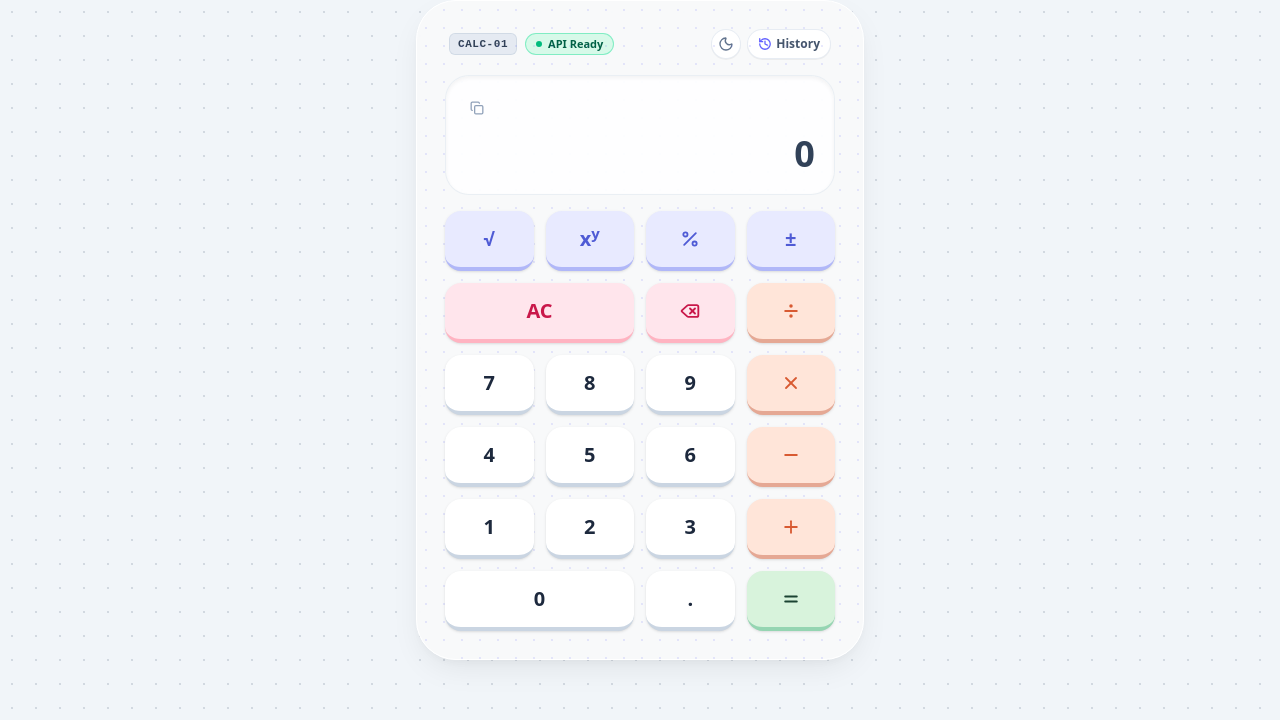
Test: Calculator Component Integration › performs advanced square root and power operations
Click the button with test id "btn-8": (590, 385) [546,355,634,415]
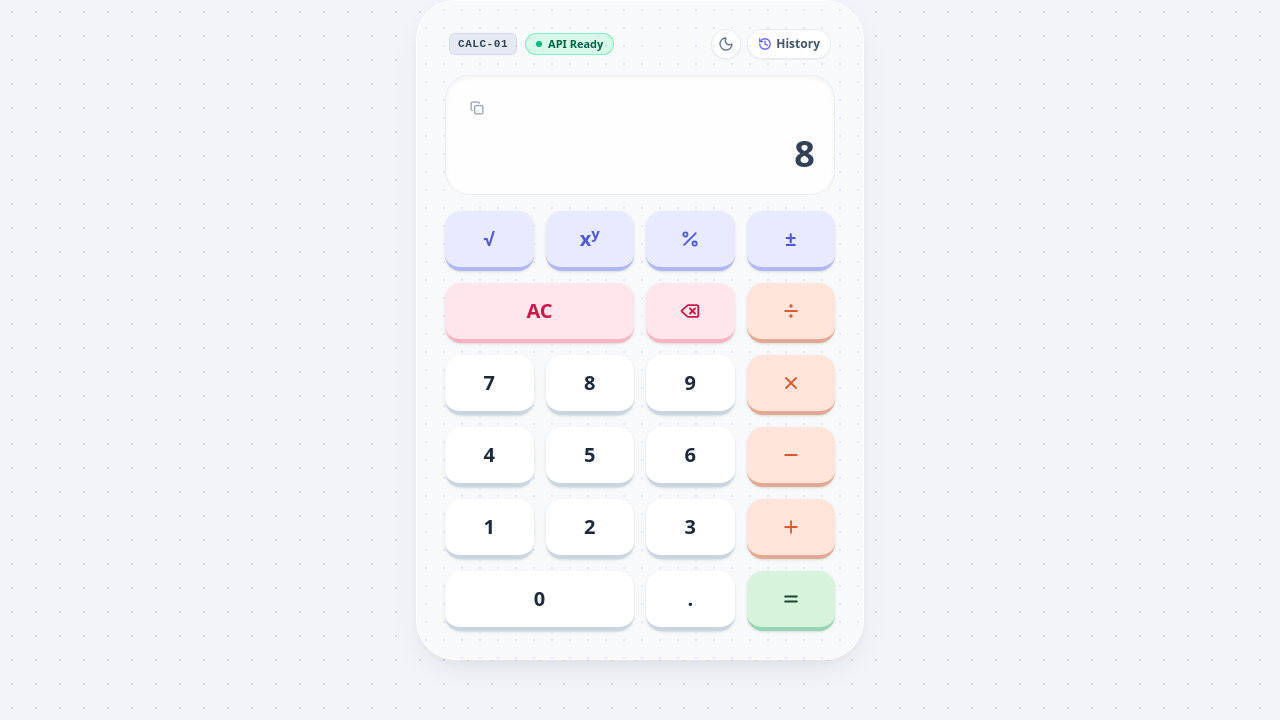
Click the button with test id "btn-1": (489, 529) [445,499,534,559]
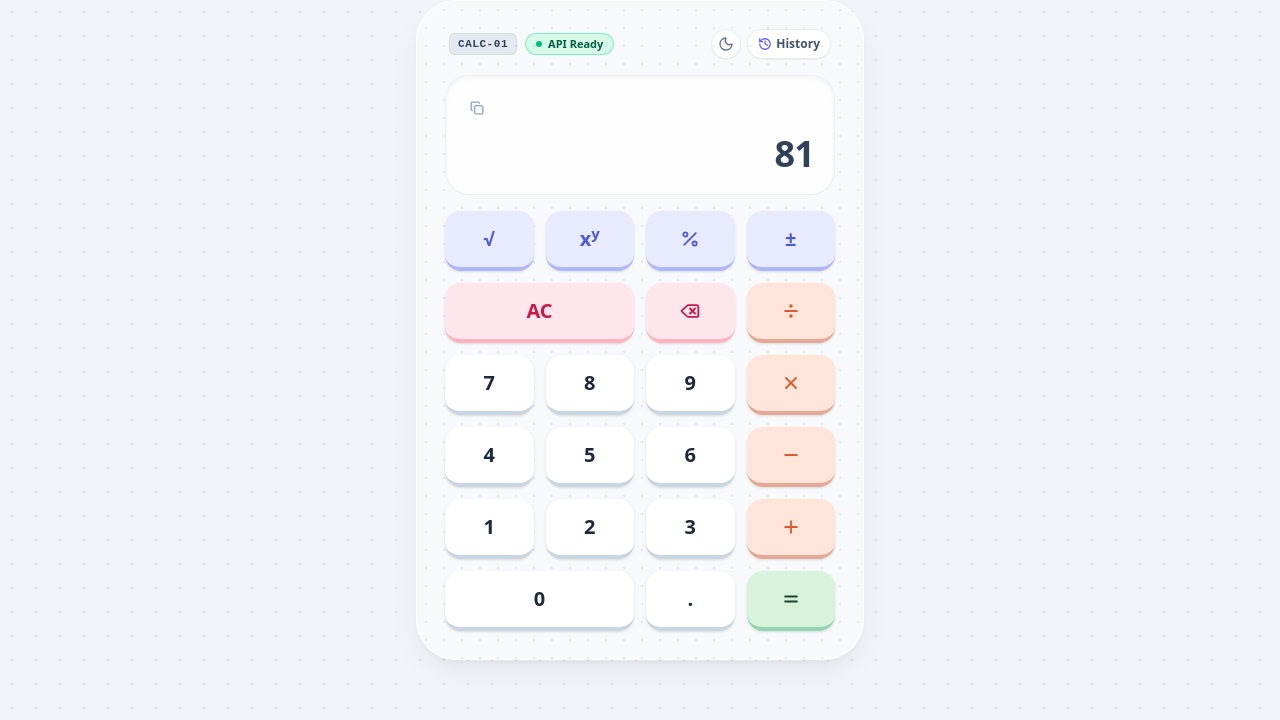
Click the button with test id "btn-sqrt": (489, 241) [445,211,534,271]
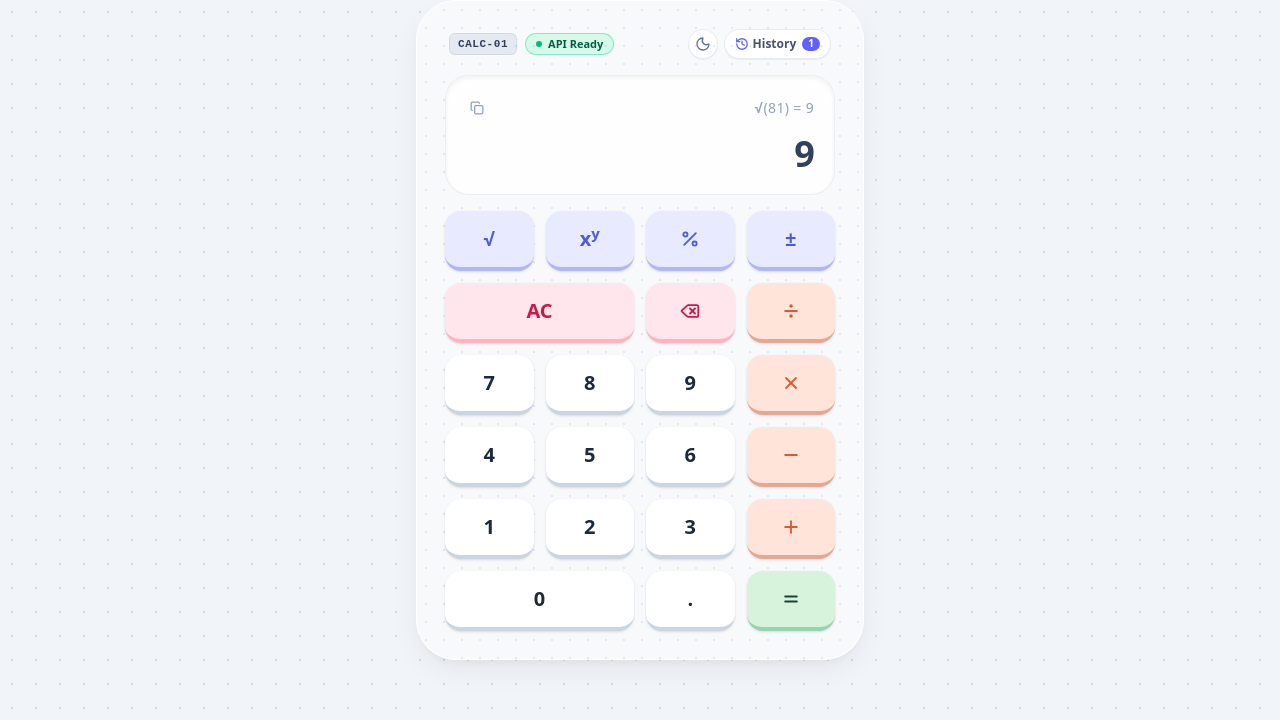
Now the text with test id "display-value" reads "9", box [794,129,814,178]
Click the button with test id "btn-power": (590, 241) [546,211,634,271]
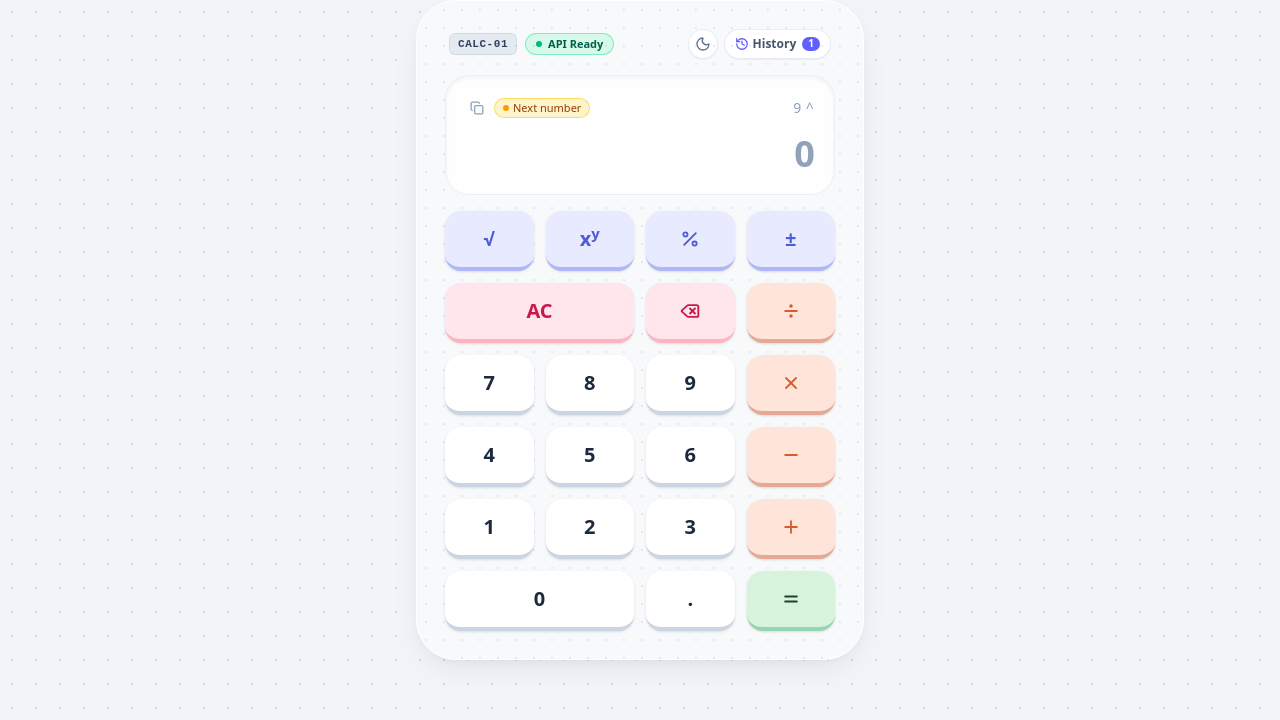
Click the button with test id "btn-2": (590, 529) [546,499,634,559]
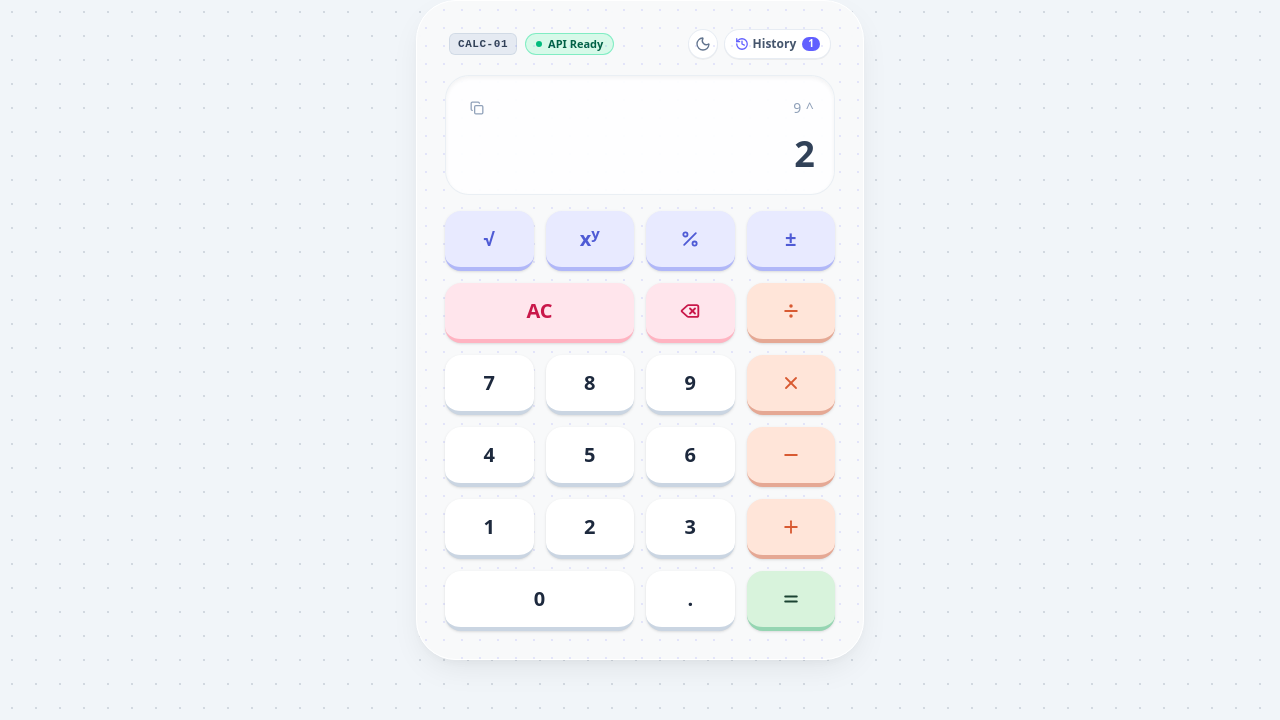
Click the button with test id "btn-equals": (791, 601) [746,571,835,631]
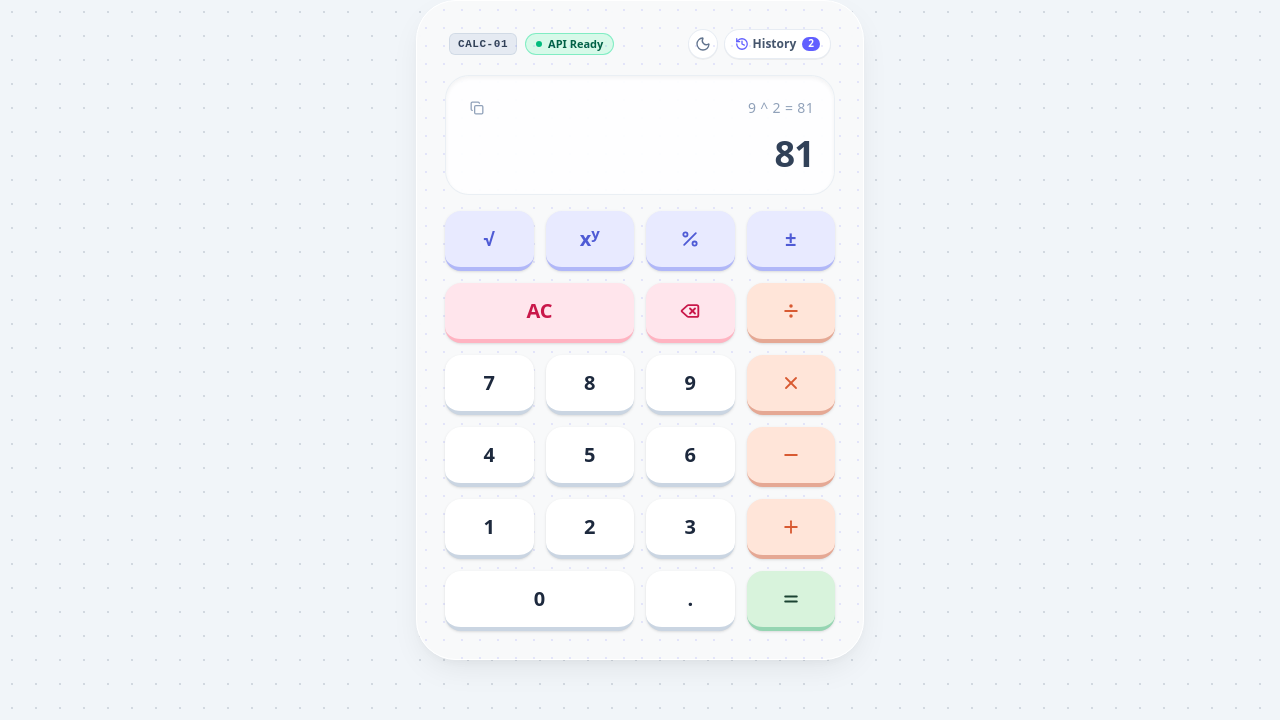
Now the text with test id "display-value" reads "81", box [775,129,814,178]
